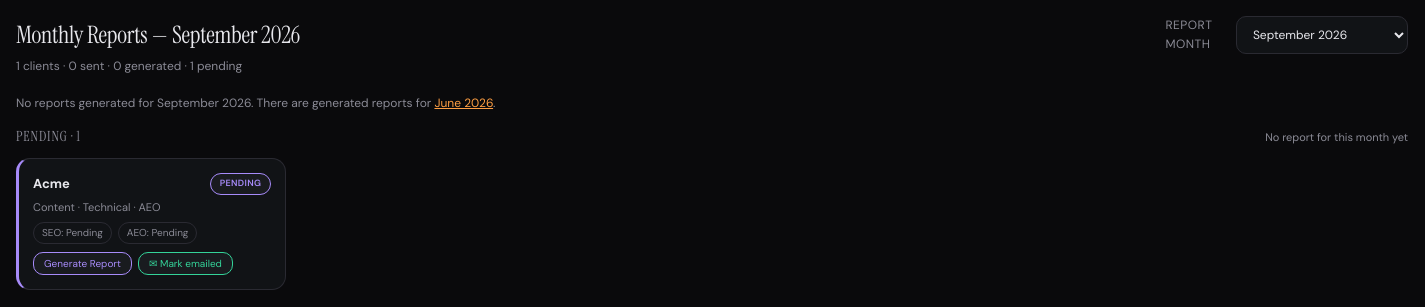
Scenario: ReportsModule › points at the months that do have reports when this one has none
...and switching to it surfaces them.
Click the link "June 2026".
click(464, 103)  # box [434, 95, 493, 111]
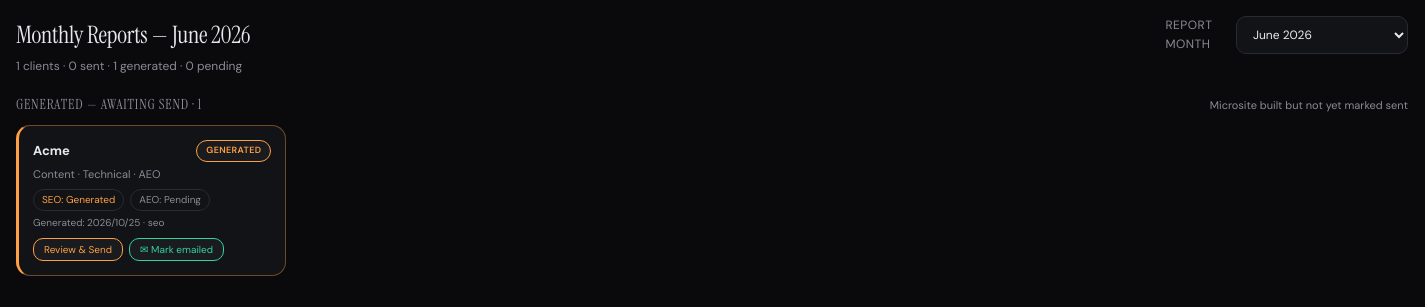
Expected: the heading "Generated — awaiting send · 1" is shown, [16, 94, 202, 116]
